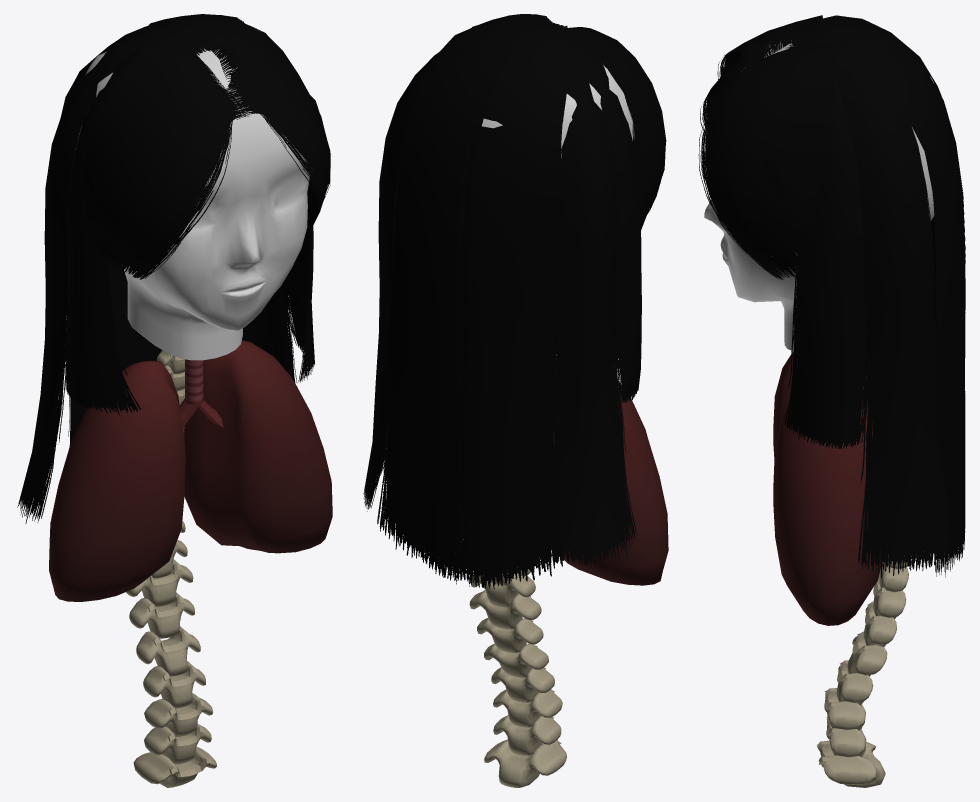
The model's file is penanggalV10.fbx.
3 renders of one model, left to right at view 1: azimuth 30°, elevation 25°; view 2: azimuth 150°, elevation 25°; view 3: azimuth 270°, elevation 25°, orthographic. The views are drawn at different scales.
Visible parts, largest first — view 1: face, LungLeft, LungRight, HairFrontLeft2, HairbackRight2, HairSideLeft, HairFrontLeft1, HairFrontRight1, HairFrontRight2, HairbackRight1, HairSideRight, HairBackLeft2 (+9 smaller); view 2: HairbackRight1, HairBackLeft1, HairbackRight2, HairSideLeft, LungLeft, HairBackLeft2, HairFrontLeft2, spine017, spine016, spine015, spine011, spine014 (+4 smaller); view 3: HairBackLeft2, HairSideRight, HairBackLeft1, HairFrontRight2, LungRight, HairFrontRight1, face, HairbackRight1, spine017, HairFrontLeft2, spine015, spine013 (+7 smaller).
Part boxes in pixels (x1=…): face: x1=75, y1=48, x2=311, y2=360; LungLeft: x1=49, y1=360, x2=185, y2=601; LungRight: x1=184, y1=340, x2=332, y2=553; HairFrontLeft2: x1=83, y1=40, x2=228, y2=262; HairbackRight2: x1=17, y1=33, x2=137, y2=523; HairSideLeft: x1=65, y1=50, x2=144, y2=415; HairFrontLeft1: x1=94, y1=86, x2=249, y2=279; HairFrontRight1: x1=226, y1=72, x2=329, y2=234; HairFrontRight2: x1=212, y1=19, x2=330, y2=211; HairbackRight1: x1=61, y1=20, x2=214, y2=445; HairSideRight: x1=282, y1=178, x2=314, y2=382; HairBackLeft2: x1=216, y1=15, x2=297, y2=383; HairbackRight1: x1=455, y1=22, x2=582, y2=588; HairBackLeft1: x1=377, y1=16, x2=549, y2=584; HairbackRight2: x1=538, y1=62, x2=636, y2=565; HairSideLeft: x1=574, y1=46, x2=641, y2=403; LungLeft: x1=553, y1=359, x2=668, y2=585; HairBackLeft2: x1=363, y1=38, x2=477, y2=511; HairFrontLeft2: x1=558, y1=27, x2=666, y2=218; spine017: x1=484, y1=739, x2=566, y2=787; spine016: x1=493, y1=715, x2=561, y2=755; spine015: x1=493, y1=689, x2=562, y2=727; spine011: x1=469, y1=589, x2=541, y2=629; spine014: x1=491, y1=667, x2=554, y2=702; HairBackLeft2: x1=838, y1=56, x2=952, y2=578; HairSideRight: x1=785, y1=65, x2=868, y2=448; HairBackLeft1: x1=786, y1=27, x2=965, y2=576; HairFrontRight2: x1=724, y1=44, x2=837, y2=252; LungRight: x1=773, y1=389, x2=880, y2=625; HairFrontRight1: x1=698, y1=69, x2=806, y2=279; face: x1=704, y1=40, x2=934, y2=351; HairbackRight1: x1=787, y1=15, x2=965, y2=531; spine017: x1=817, y1=740, x2=885, y2=787; HairFrontLeft2: x1=717, y1=15, x2=822, y2=79; spine015: x1=824, y1=688, x2=865, y2=730; spine013: x1=847, y1=631, x2=887, y2=676.
Bounding box in the file's own units: 208 × 553 × 178.
